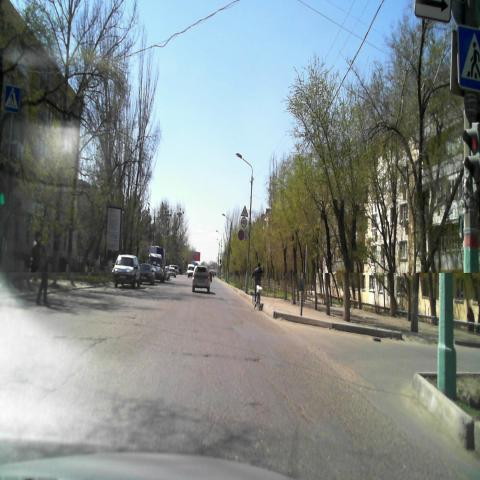1_23: (241, 205, 249, 217)
3_24: (241, 217, 247, 227)
3_27: (238, 228, 244, 241)
5_19_1: (7, 85, 21, 111)
8_2_4: (244, 229, 248, 240)
